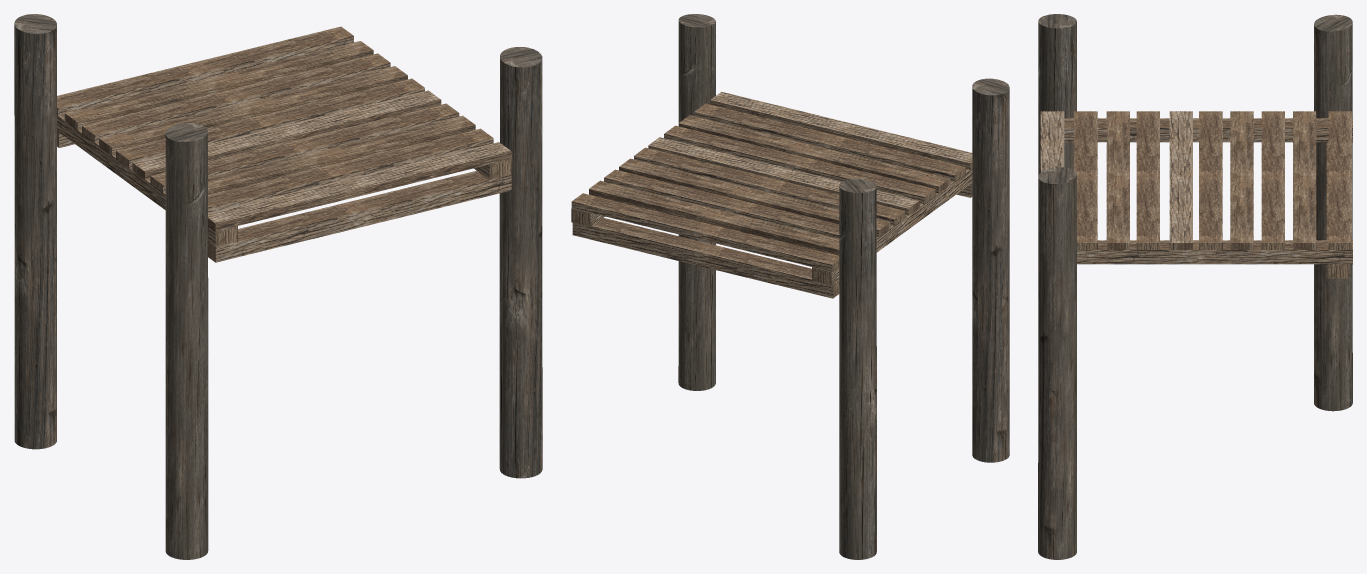
Rendered from plataforma maderas.fbx.
3 views of the same model, side by side, from view 1: azimuth 30°, elevation 25°; view 2: azimuth 150°, elevation 25°; view 3: azimuth 270°, elevation 25° (orthographic). The views are drawn at different scales.
Parts seen in each view (by area): view 1: Plataforma Tablas, Columna3-4, Columna1-2, Plataforma Tablas.001; view 2: Plataforma Tablas, Columna3-4, Columna1-2, Plataforma Tablas.001; view 3: Plataforma Tablas, Columna3-4, Columna1-2, Plataforma Tablas.001.
Part boxes in pixels (x1,y1,x2,y2): Plataforma Tablas: [57, 26, 511, 246]; Columna3-4: [165, 47, 542, 559]; Columna1-2: [14, 14, 56, 449]; Plataforma Tablas.001: [57, 131, 511, 262]; Plataforma Tablas: [571, 91, 972, 285]; Columna3-4: [678, 14, 1009, 462]; Columna1-2: [839, 179, 876, 559]; Plataforma Tablas.001: [572, 183, 972, 298]; Plataforma Tablas: [1040, 111, 1352, 264]; Columna3-4: [1038, 14, 1076, 559]; Columna1-2: [1314, 14, 1352, 411]; Plataforma Tablas.001: [1326, 142, 1349, 278].
Size of the model in its own units: 501 by 541 by 404.
9 materials, 9 textured.
